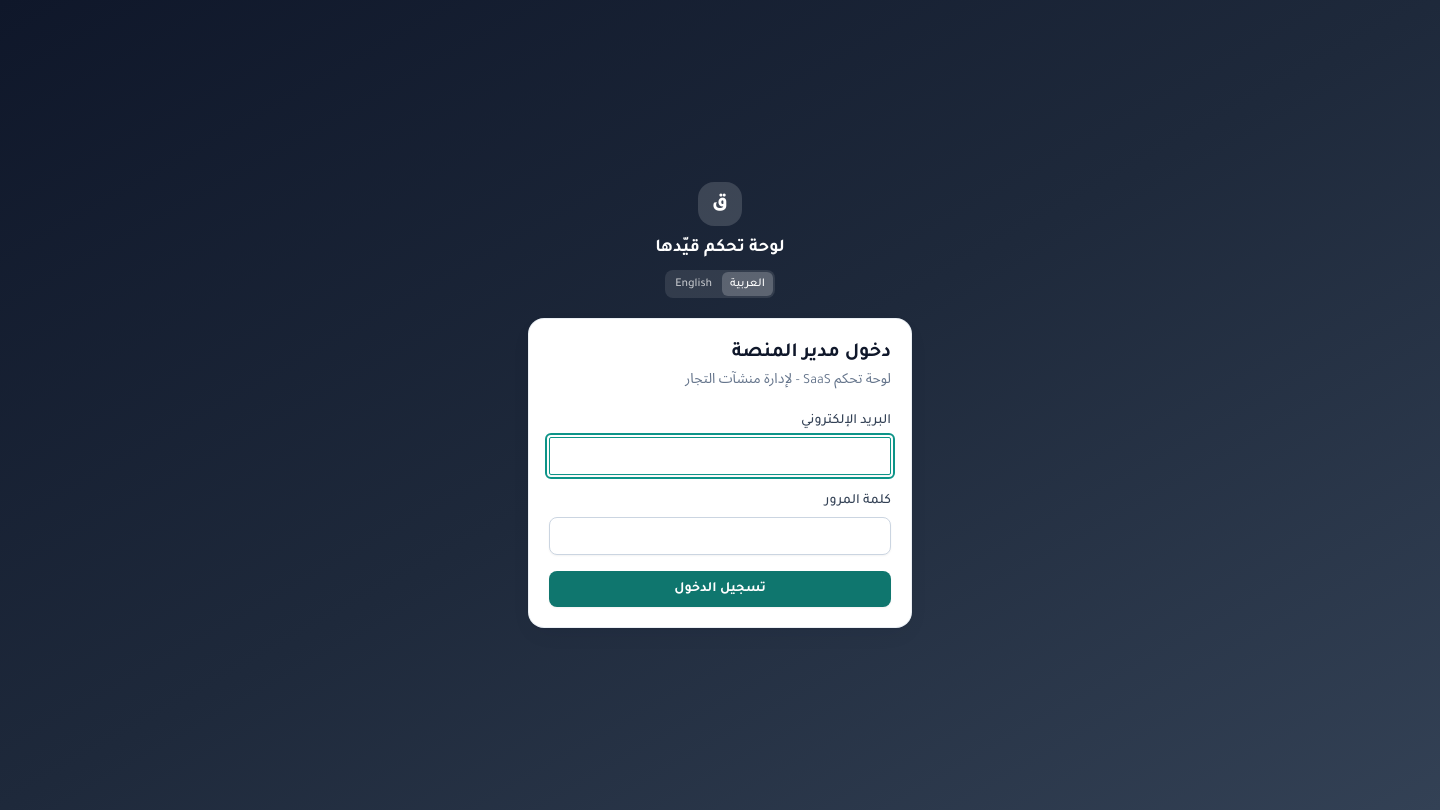
Test case: AdminLoginPage › shows the server error message on failed login
Type "admin@test.local" into the field labelled "البريد الإلكتروني" at (720, 456), box [549, 437, 891, 475]
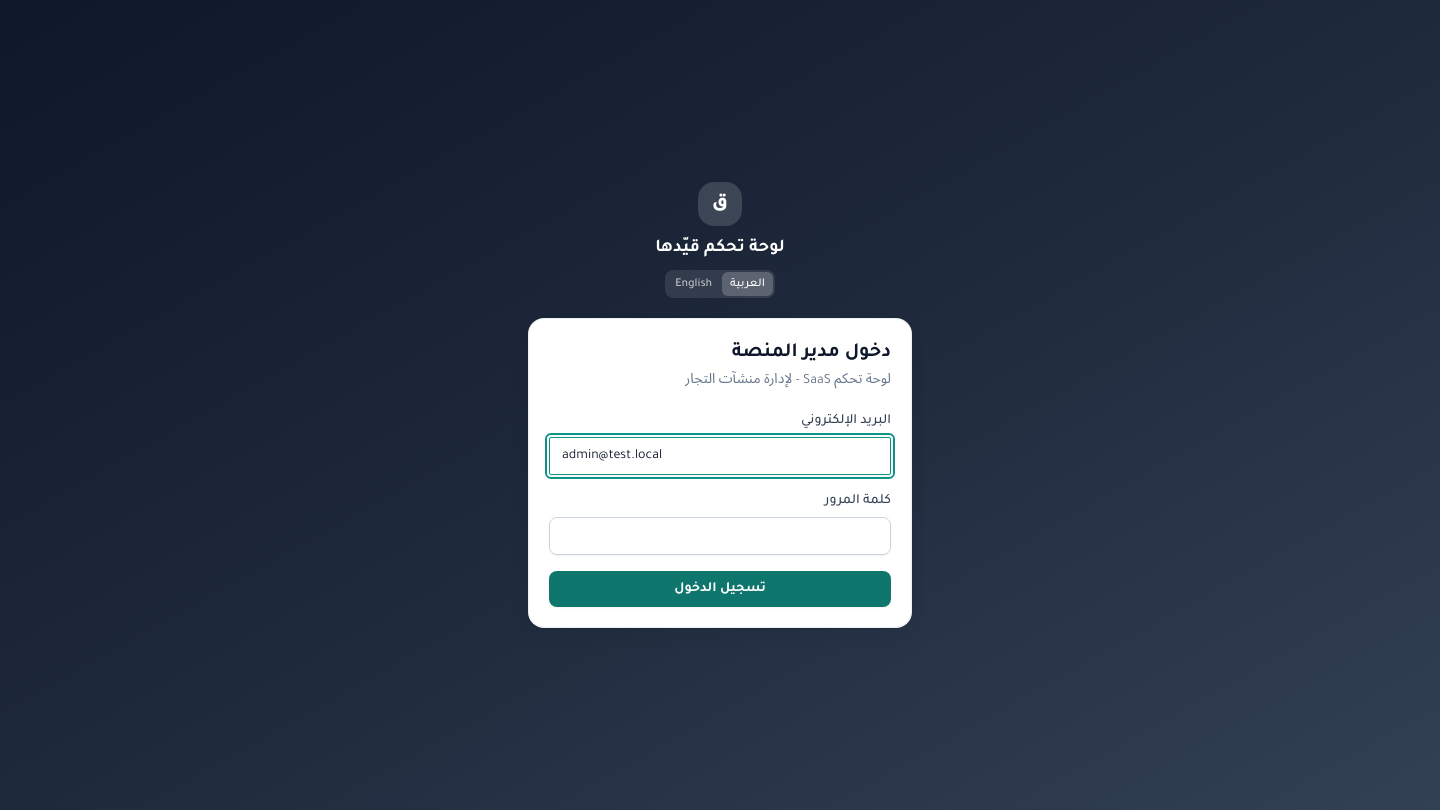
Type "WrongPassword" into the password field labelled "كلمة المرور" at (720, 536), box [549, 517, 891, 555]
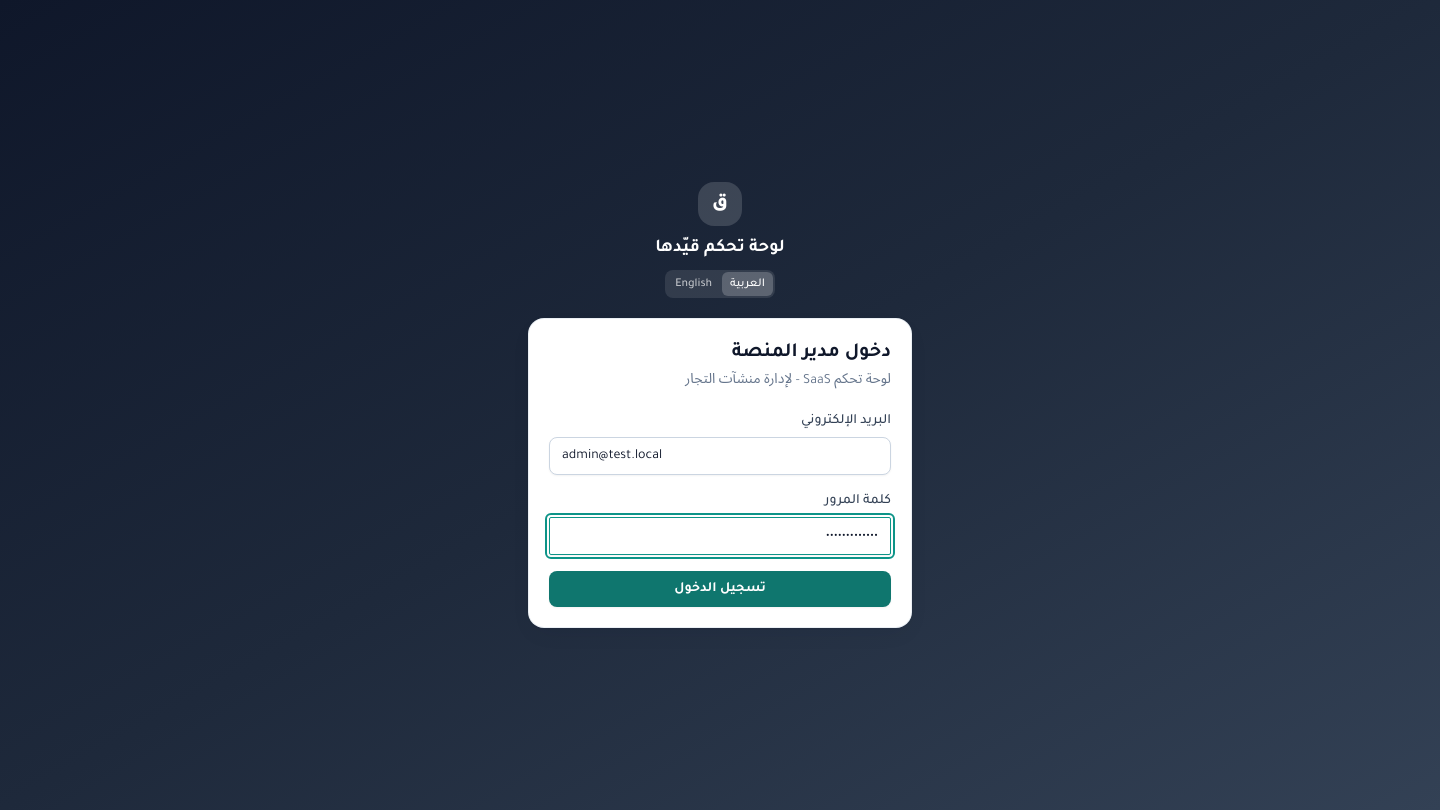
Click the button "تسجيل الدخول" at (720, 589), box [549, 571, 891, 607]
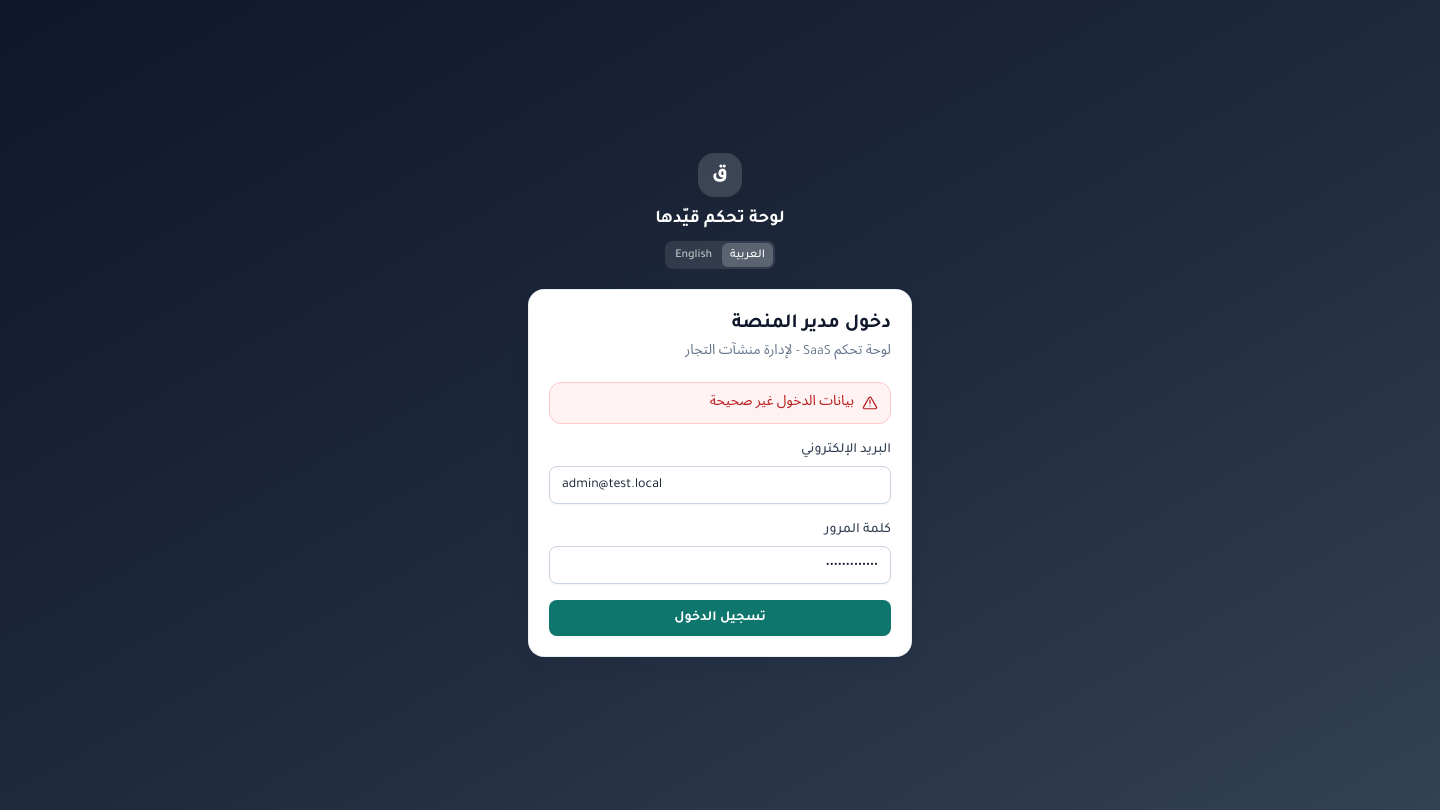
Check: the text "بيانات الدخول غير صحيحة" is shown, box [710, 393, 854, 413]
